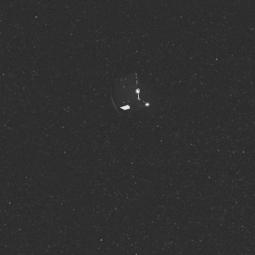proba_3_ocs: (102, 69, 160, 117)
